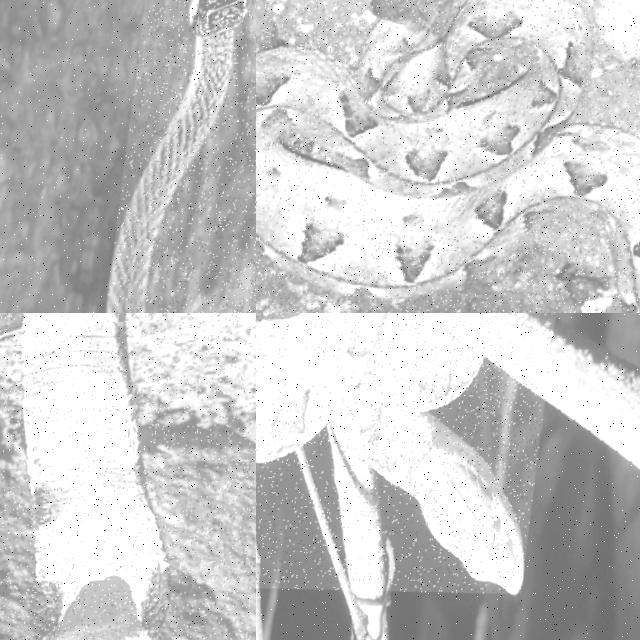Calloselasma rhodostoma: (256, 0, 639, 312), (256, 313, 524, 592)
Chrysopelea ornata: (107, 0, 249, 312)
Ophiophagus hannah: (23, 313, 169, 639)
